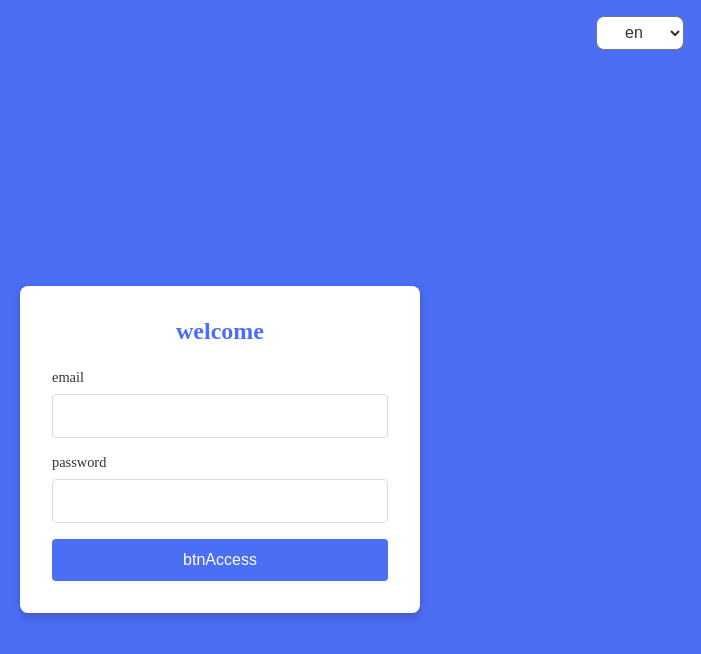
LoginPage › failed login shows error message
Type "wrong@example.com" into the field labelled "email" at (220, 416), box [52,394,388,438]
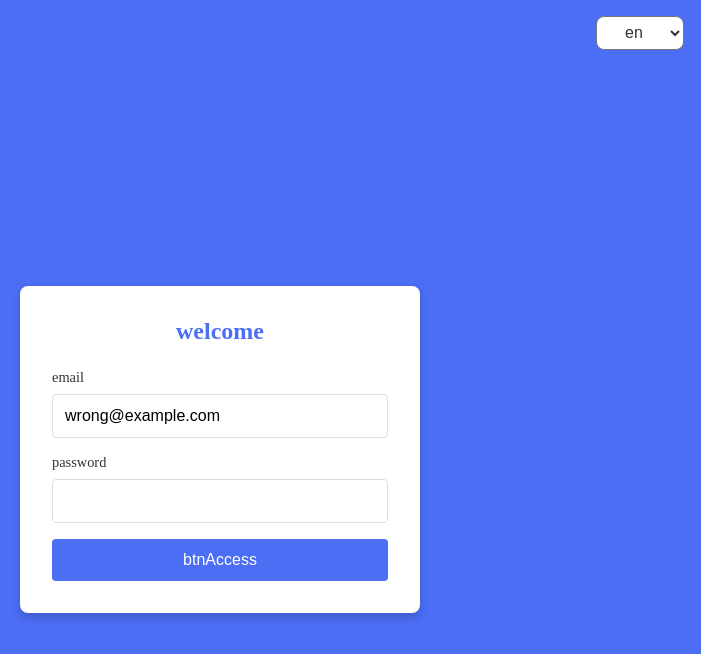
Type "wrongpass" into the password field labelled "password" at (220, 501), box [52,479,388,523]
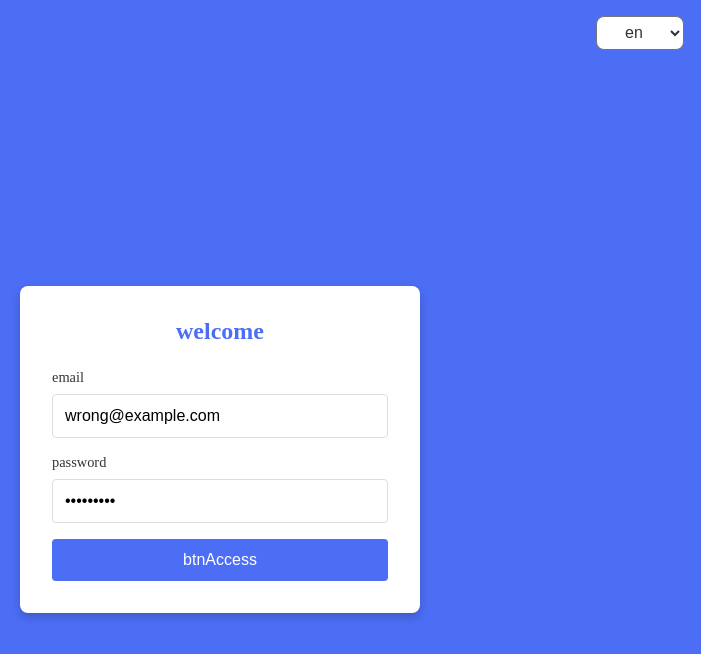
Click the button "btnAccess" at (220, 560), box [52,539,388,581]
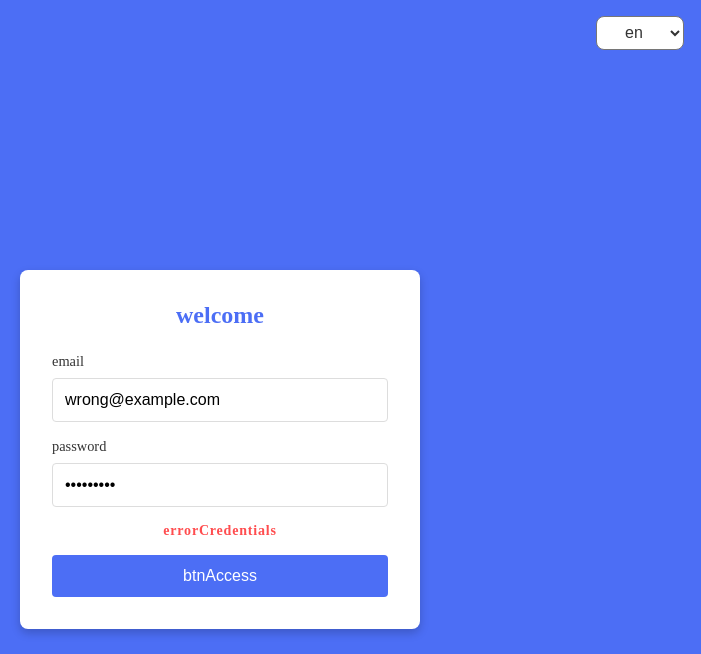
Expected: the text "errorCredentials" is shown, [163,523,277,538]
